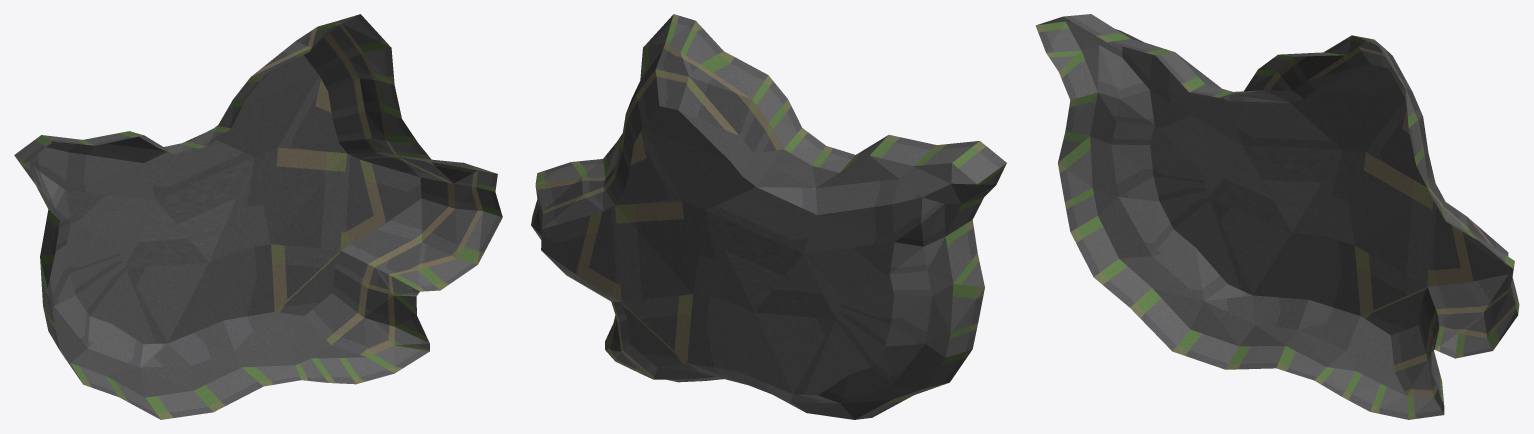
The model's file is island_8_0.fbx.
The picture shows the model from 3 angles, left to right: view 1: azimuth 30°, elevation 25°; view 2: azimuth 150°, elevation 25°; view 3: azimuth 330°, elevation 25°; orthographic projection.
Parts seen in each view (by area): view 1: Circle.020; view 2: Circle.020; view 3: Circle.020.
Part boxes in pixels (bbox=[...]): Circle.020: bbox=[14, 14, 502, 419]; Circle.020: bbox=[531, 14, 1006, 419]; Circle.020: bbox=[1035, 14, 1519, 419].
Size of the model in its own units: 4318 by 3193 by 583.
